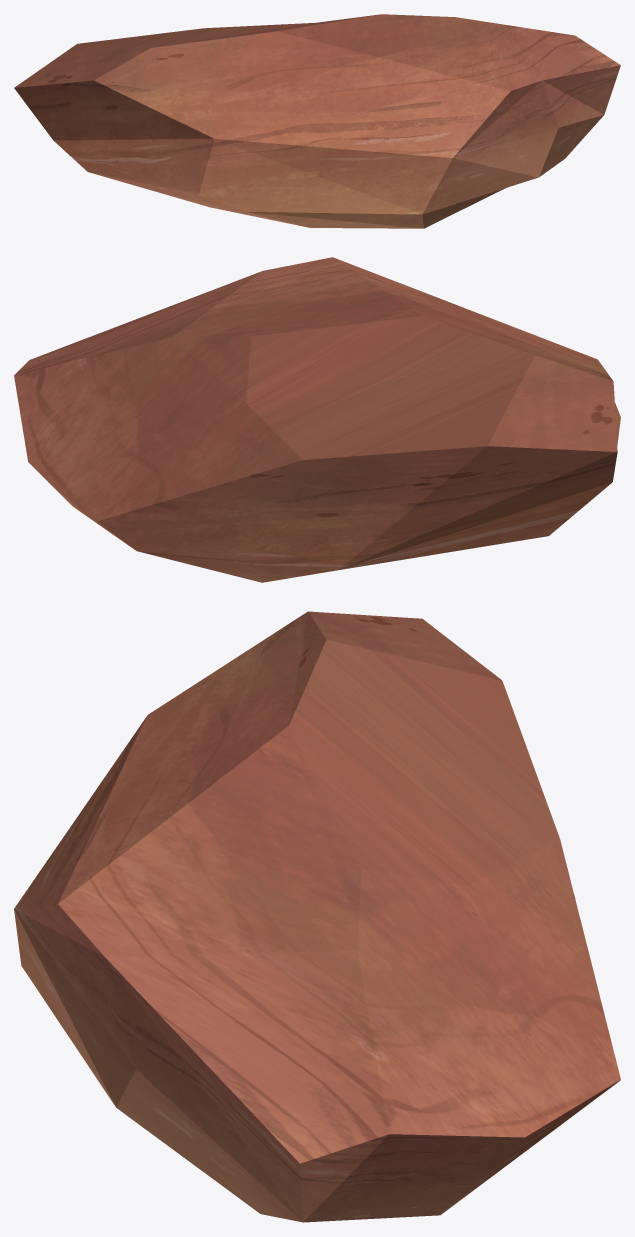
The model's file is rock_2_009.fbx.
The picture shows the model from 3 angles, top to bottom: view 1: azimuth 30°, elevation 25°; view 2: azimuth 150°, elevation 25°; view 3: azimuth 270°, elevation 25°; orthographic projection. The views are drawn at different scales.
Parts seen in each view (by area): view 1: rock 2.009; view 2: rock 2.009; view 3: rock 2.009.
Part boxes in pixels (x1,y1,x2,y2): rock 2.009: (14, 14, 620, 228); rock 2.009: (14, 257, 620, 582); rock 2.009: (14, 611, 620, 1222).
Bounding box in the file's own units: 109 × 36.75 × 67.45.
